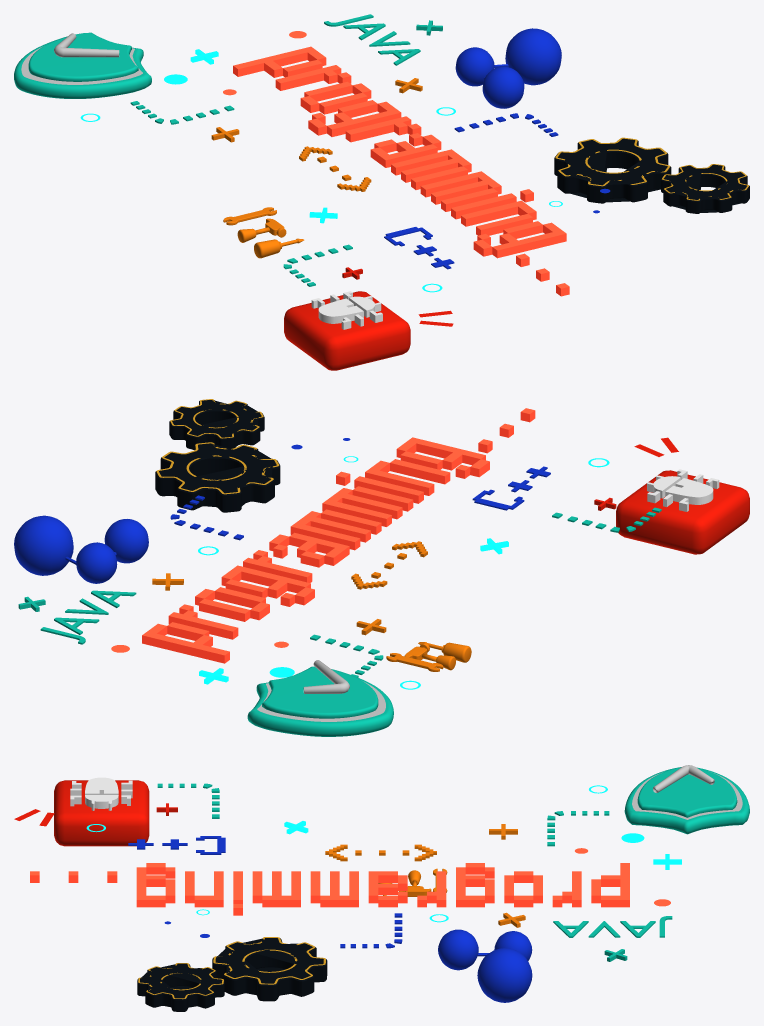
3 renders of one model, top to bottom at view 1: azimuth 30°, elevation 25°; view 2: azimuth 150°, elevation 25°; view 3: azimuth 270°, elevation 25°, orthographic. The views are drawn at different scales.
Visible parts, largest first — view 1: Text, Circle, BezierCircle.020, SubTool-0-11410285.009, Sphere.058, SubTool-0-11410285.010, Plane.129, Text.006, Circle.030, Text.008, Text.009; view 2: Text, Circle, BezierCircle.020, SubTool-0-11410285.009, Sphere.058, SubTool-0-11410285.010, Plane.129, Text.006, Circle.030, Text.008, Text.009, Cylinder.107; view 3: Text, BezierCircle.020, Circle, SubTool-0-11410285.009, Sphere.058, SubTool-0-11410285.010, Plane.129, Circle.030, Text.006, Text.008, Text.009.
Part boxes in pixels (x1=…): Text: x1=233, y1=46, x2=569, y2=296; Circle: x1=284, y1=291, x2=410, y2=370; BezierCircle.020: x1=14, y1=32, x2=151, y2=98; SubTool-0-11410285.009: x1=554, y1=137, x2=671, y2=203; Sphere.058: x1=455, y1=28, x2=561, y2=108; SubTool-0-11410285.010: x1=661, y1=164, x2=749, y2=213; Plane.129: x1=190, y1=20, x2=442, y2=279; Text.006: x1=324, y1=14, x2=420, y2=65; Circle.030: x1=80, y1=31, x2=610, y2=326; Text.008: x1=384, y1=227, x2=454, y2=269; Text.009: x1=299, y1=146, x2=371, y2=191; Text: x1=142, y1=408, x2=535, y2=663; Circle: x1=616, y1=469, x2=749, y2=554; BezierCircle.020: x1=247, y1=660, x2=393, y2=736; SubTool-0-11410285.009: x1=155, y1=442, x2=280, y2=512; Sphere.058: x1=14, y1=515, x2=148, y2=583; SubTool-0-11410285.010: x1=169, y1=399, x2=264, y2=449; Plane.129: x1=18, y1=497, x2=616, y2=684; Text.006: x1=40, y1=590, x2=136, y2=644; Circle.030: x1=111, y1=437, x2=678, y2=689; Text.008: x1=472, y1=466, x2=550, y2=510; Text.009: x1=351, y1=541, x2=427, y2=589; Cylinder.107: x1=404, y1=643, x2=455, y2=670; Text: x1=30, y1=863, x2=629, y2=915; BezierCircle.020: x1=624, y1=765, x2=749, y2=834; Circle: x1=54, y1=777, x2=149, y2=846; SubTool-0-11410285.009: x1=212, y1=937, x2=327, y2=1001; Sphere.058: x1=438, y1=929, x2=532, y2=1002; SubTool-0-11410285.010: x1=137, y1=963, x2=224, y2=1011; Plane.129: x1=156, y1=803, x2=681, y2=961; Circle.030: x1=14, y1=785, x2=670, y2=937; Text.006: x1=553, y1=916, x2=672, y2=937; Text.008: x1=128, y1=836, x2=225, y2=854; Text.009: x1=325, y1=844, x2=436, y2=861.
Size of the model in its own units: 649 by 136 by 891.
